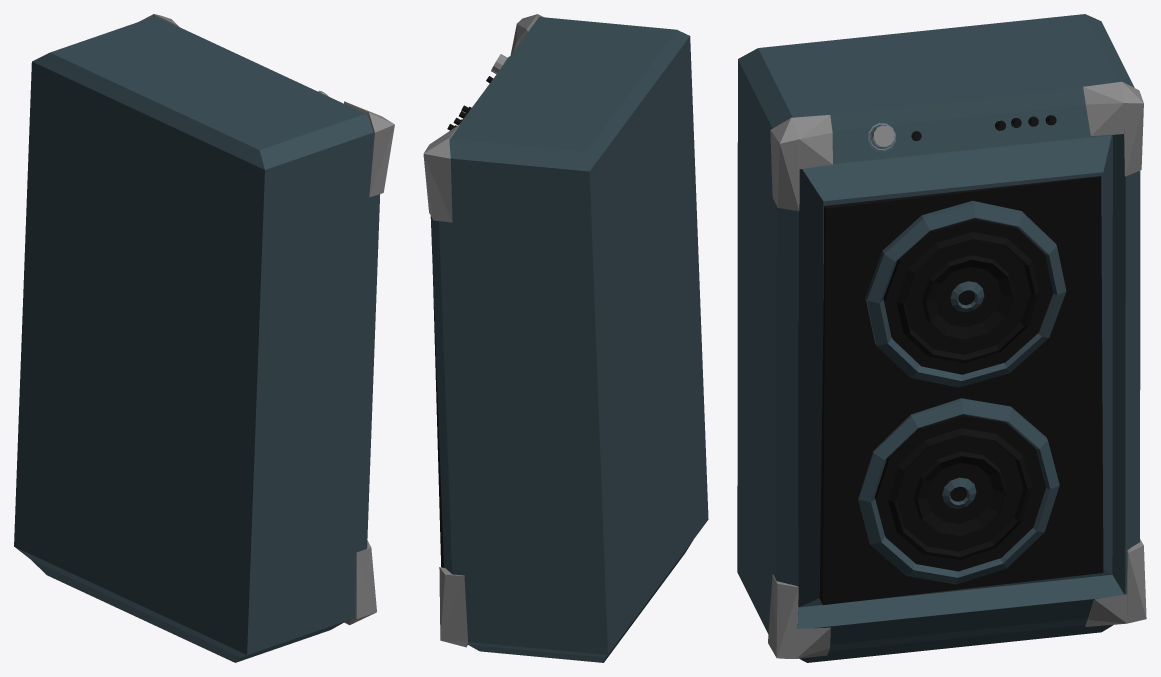
The picture shows the model from 3 angles, left to right: view 1: azimuth 30°, elevation 25°; view 2: azimuth 150°, elevation 25°; view 3: azimuth 270°, elevation 25°; orthographic projection. The views are drawn at different scales.
Visible parts, largest first — view 1: node_MeshObject-858259456-PolyPaper15; view 2: node_MeshObject-858259456-PolyPaper15; view 3: node_MeshObject-858259456-PolyPaper15.
Part boxes in pixels (x1,y1,x2,y2): node_MeshObject-858259456-PolyPaper15: (14, 14, 394, 662); node_MeshObject-858259456-PolyPaper15: (423, 14, 708, 662); node_MeshObject-858259456-PolyPaper15: (737, 14, 1146, 662).
Bounding box in the file's own units: 1.2 × 2.56 × 1.68.
